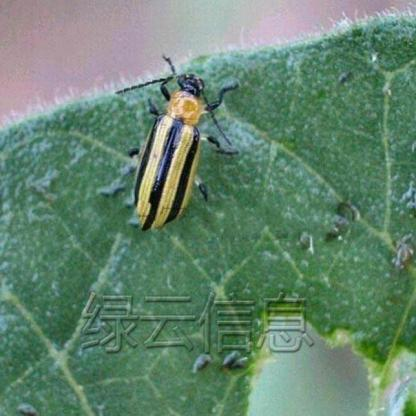beetle: (125, 47, 245, 218)
